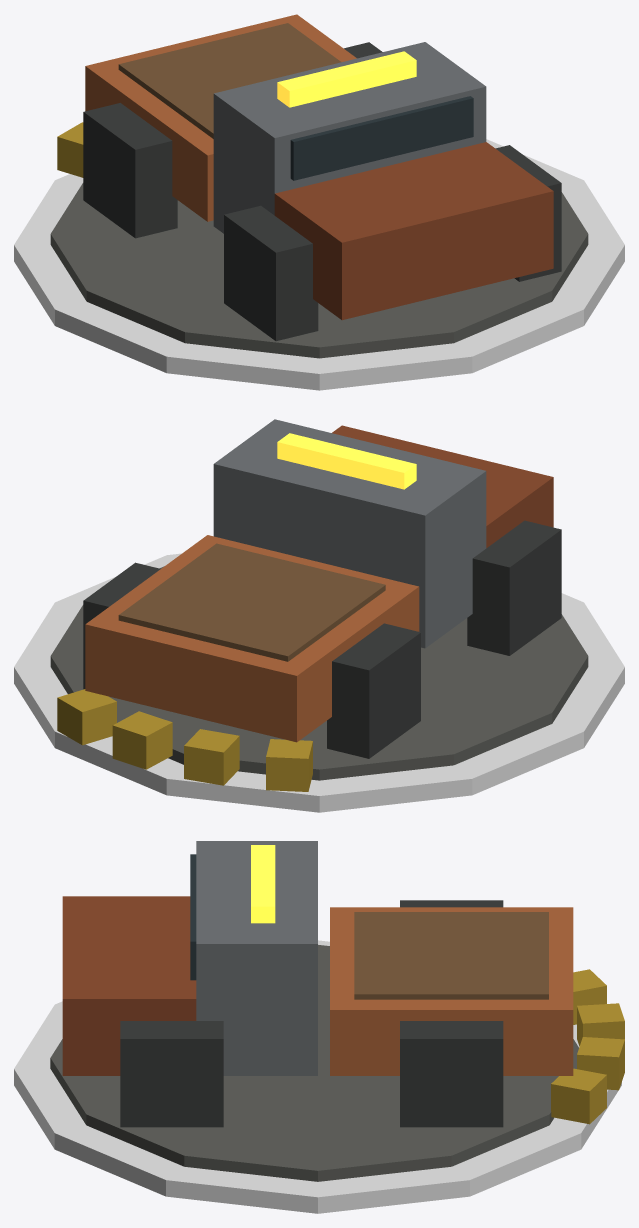
Rendered from vehicle_token_t4.glb.
3 views of the same model, one above another, from view 1: azimuth 30°, elevation 25°; view 2: azimuth 150°, elevation 25°; view 3: azimuth 270°, elevation 25° (orthographic).
Parts seen in each view (by area): view 1: vehicle_token_t4; view 2: vehicle_token_t4; view 3: vehicle_token_t4.
Part boxes in pixels (bbox=[...]): vehicle_token_t4: bbox=[14, 14, 624, 390]; vehicle_token_t4: bbox=[14, 419, 624, 812]; vehicle_token_t4: bbox=[14, 841, 624, 1213].
Size of the model in its own units: 1 by 0.38 by 1.
